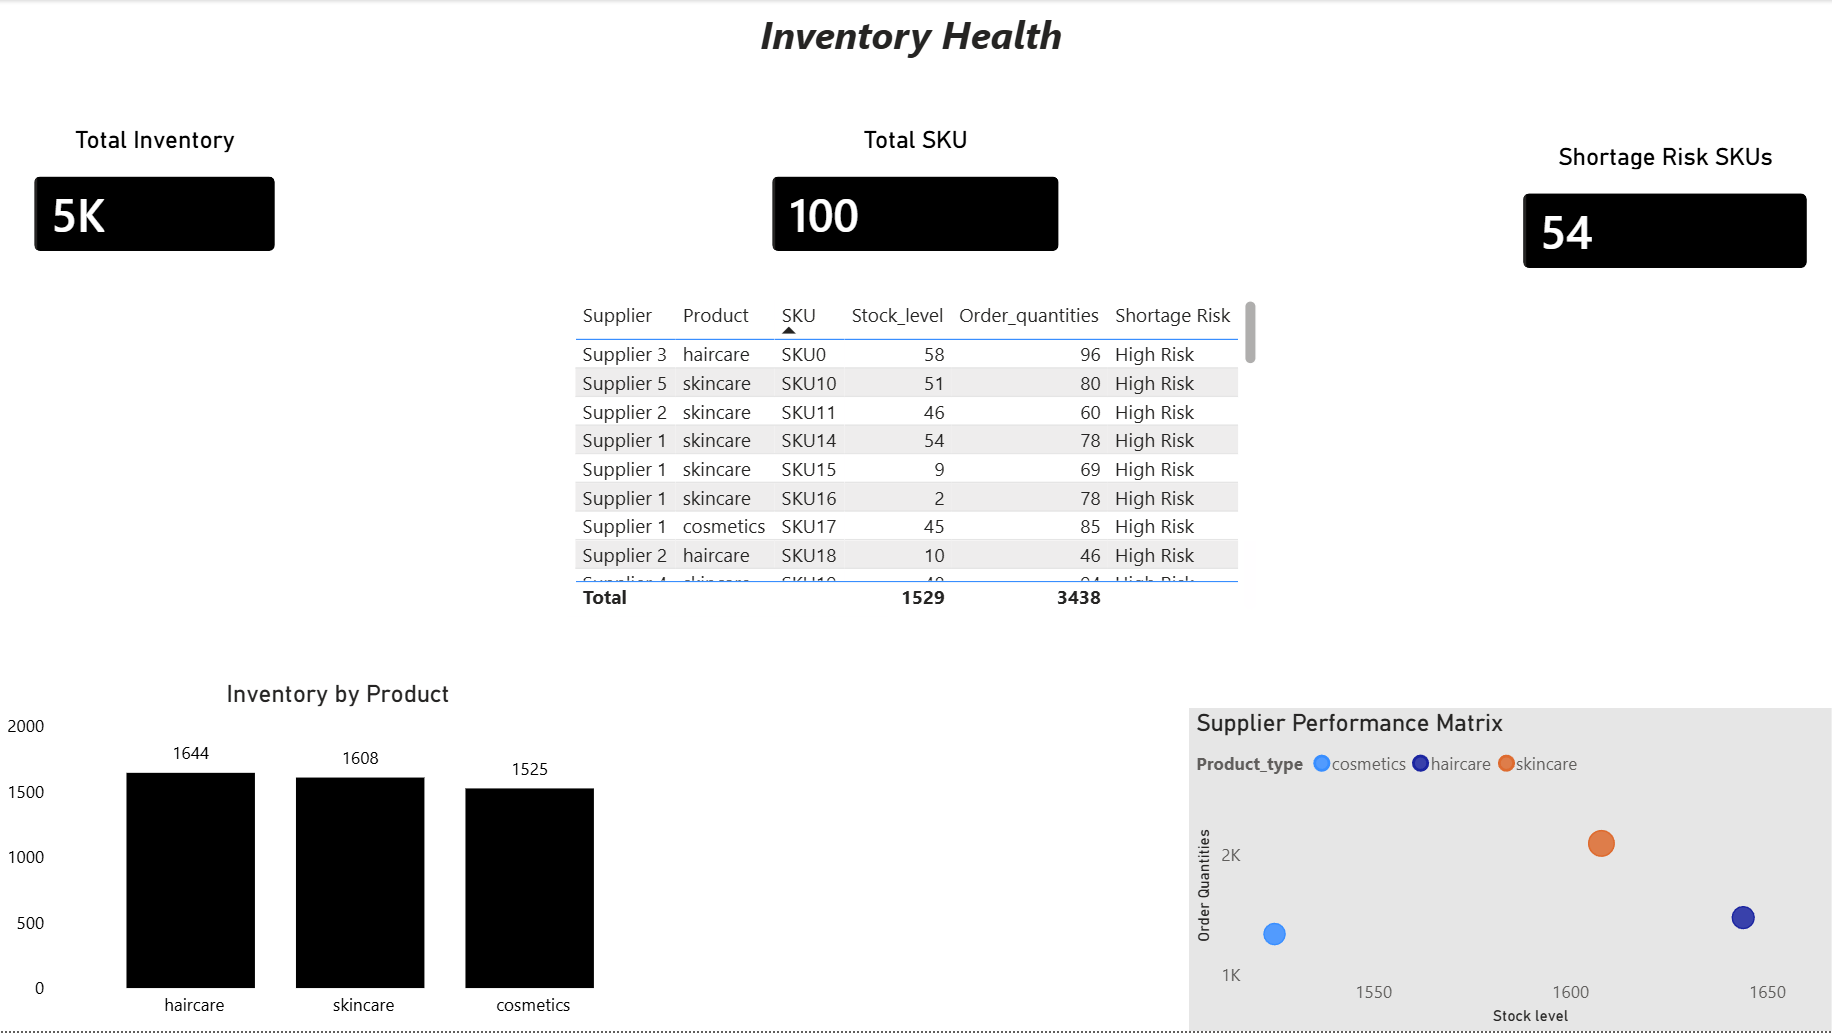

What the dashboard file says about the page in this screenshot:
{"tool":"powerbi","page":{"name":"Inventory Health","canvas":[1280,720],"ordinal":2},"visuals":[{"type":"textbox","box":[526.1,0,227.1,67.1],"z":0},{"type":"cardVisual","title":"Total Inventory","fields":{"Data":["Sum(supplychain_db supply.Stock_level)"]},"box":[7,87.3,202.6,105.5],"z":1},{"type":"cardVisual","title":"Total SKU ","fields":{"Data":["Count(supplychain_db supply.SKU)"]},"box":[522.6,87.3,234.1,105.5],"z":2},{"type":"cardVisual","title":"Shortage Risk SKUs","fields":{"Data":["supplychain_db supply.Number of Shortage Risk SKUs"]},"box":[1047.3,99.2,232.7,105.5],"z":3},{"type":"columnChart","title":"Inventory by Product","fields":{"Category":["supplychain_db supply.Product_type"],"Y":["Sum(supplychain_db supply.Stock_level)"]},"box":[0,474.4,472.3,245.9],"z":4},{"type":"scatterChart","title":"Supplier Performance Matrix","fields":{"X":["Sum(supplychain_db supply.Stock_level)"],"Y":["Sum(supplychain_db supply.Order_quantities)"],"Series":["supplychain_db supply.Product_type"],"Size":["Sum(supplychain_db supply.Revenue)"]},"box":[830.7,494.7,449.3,225.7],"z":5},{"type":"tableEx","fields":{"Values":["supplychain_db supply.Supplier_Name","supplychain_db supply.Product_type","supplychain_db supply.SKU","Sum(supplychain_db supply.Stock_level)","Sum(supplychain_db supply.Order_quantities)","supplychain_db supply.Shortage Risk"]},"box":[396.2,204.7,487,225.7],"z":6}]}

Visuals, with their boxes in screenshot pixels (x1, y1, x2, y2), scaled from the page's 1280x720 canvas onto the 1832x1033 screenshot:
textbox: [753,0,1078,96]
"Total Inventory" cardVisual: [10,125,300,277]
"Total SKU " cardVisual: [748,125,1083,277]
"Shortage Risk SKUs" cardVisual: [1499,142,1831,294]
"Inventory by Product" columnChart: [0,681,676,1032]
"Supplier Performance Matrix" scatterChart: [1189,710,1831,1032]
tableEx - supplychain_db supply.Supplier_Name x supplychain_db supply.Product_type: [567,294,1264,618]
